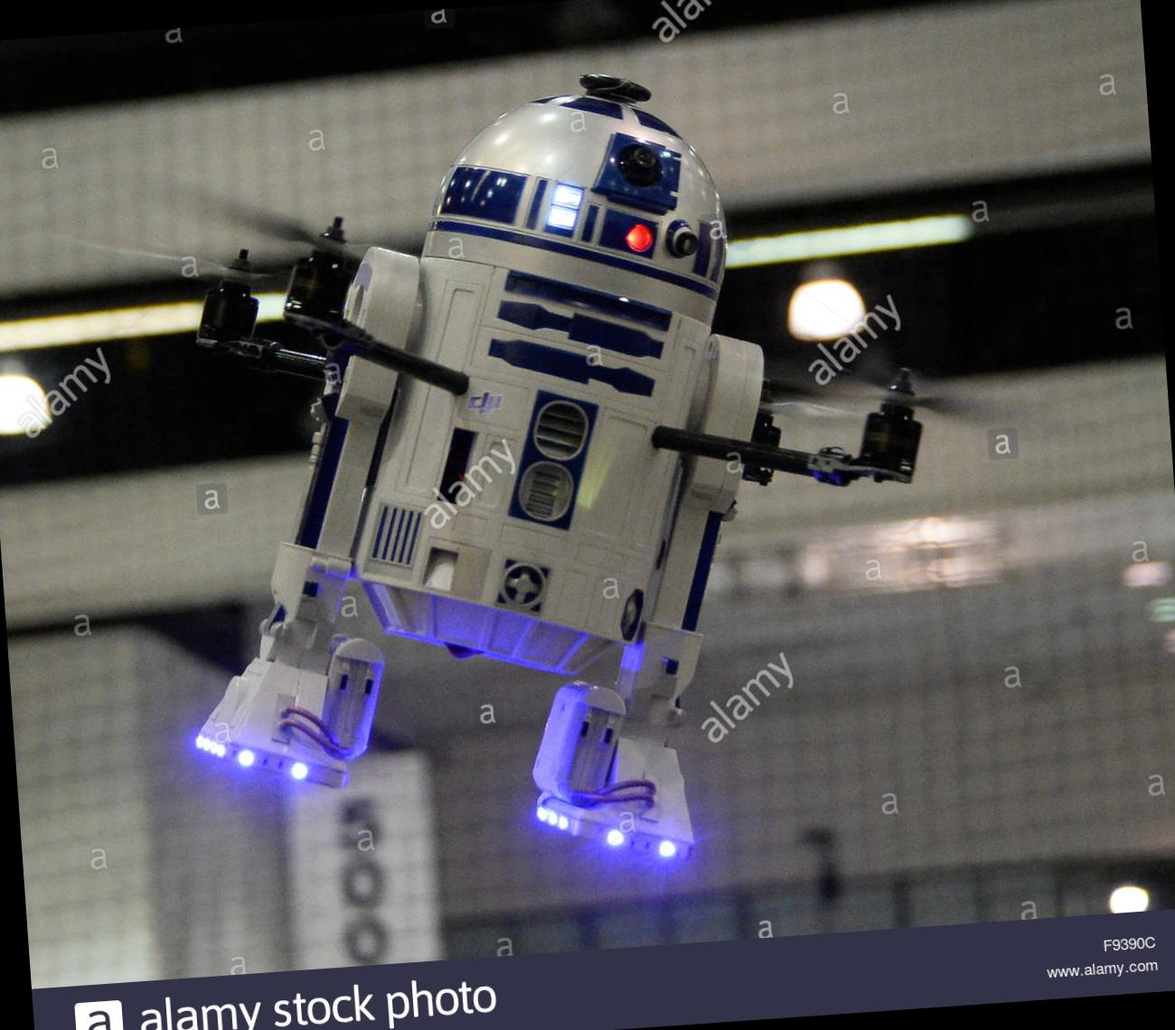drone: (60, 127, 988, 588)
